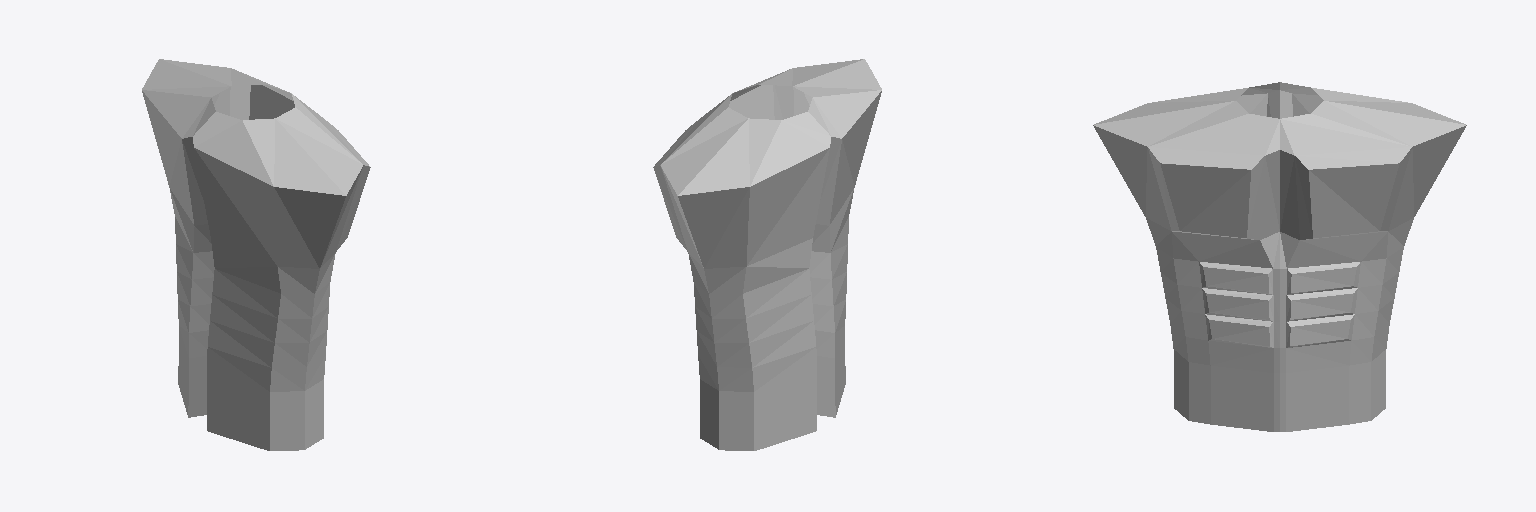
The model's file is torso.obj.
3 views of the same model, side by side, from view 1: azimuth 30°, elevation 25°; view 2: azimuth 150°, elevation 25°; view 3: azimuth 270°, elevation 25° (orthographic).
Bounding box in the file's own units: 6.95 × 15.02 × 16.53.